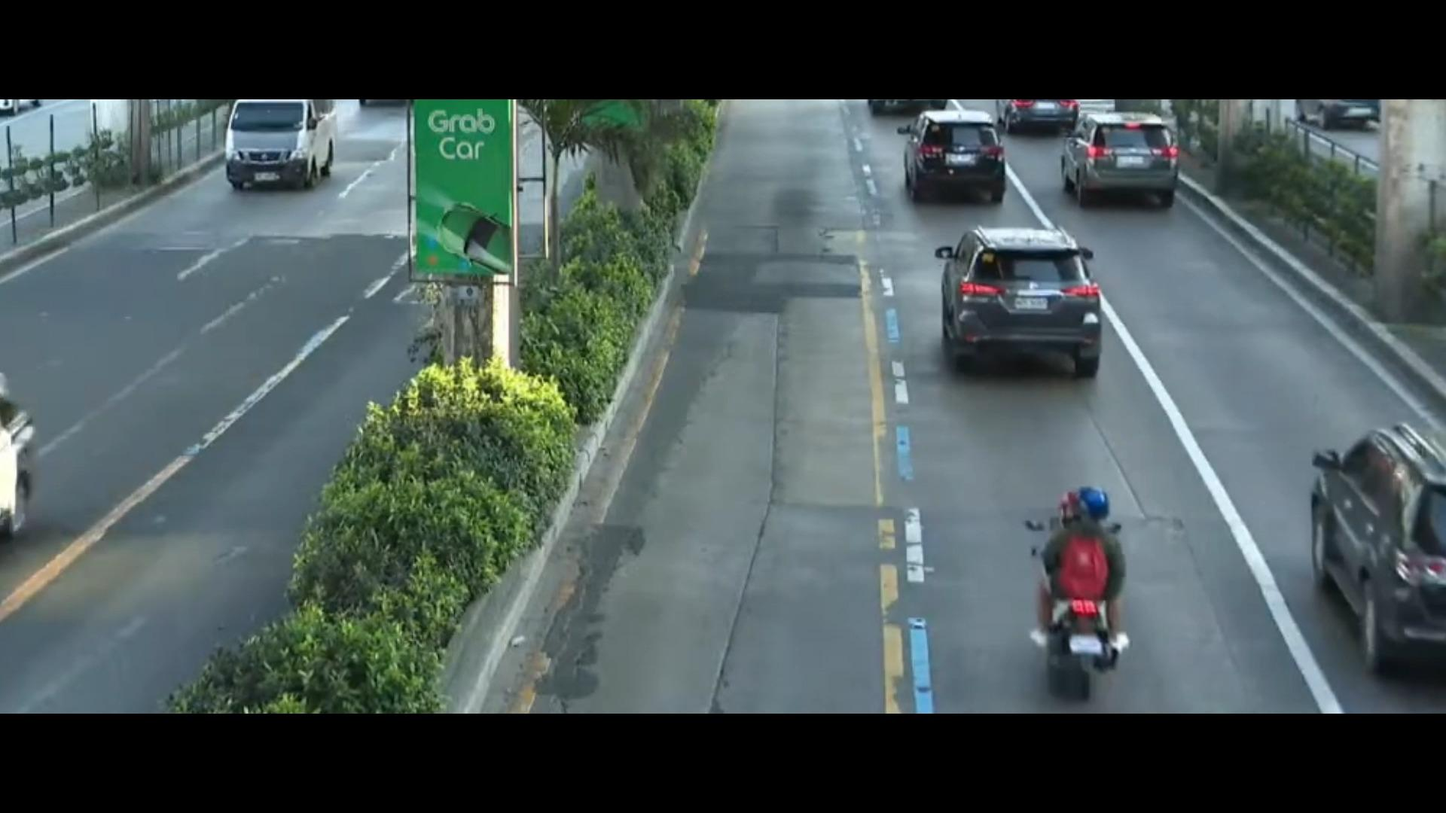Motorcycle: (998, 450, 1147, 694)
SUV: (1256, 405, 1446, 677), (929, 217, 1112, 403), (893, 97, 1019, 214), (1058, 100, 1181, 203)
Van: (206, 104, 345, 198)
